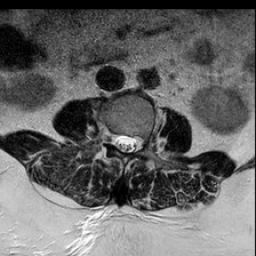CCS_normal: (123, 124, 131, 163)
LFS_normal: (139, 124, 146, 154)
LLS_normal: (131, 125, 139, 157)
RFS_normal: (107, 120, 115, 152)
RLS_normal: (115, 124, 123, 157)
